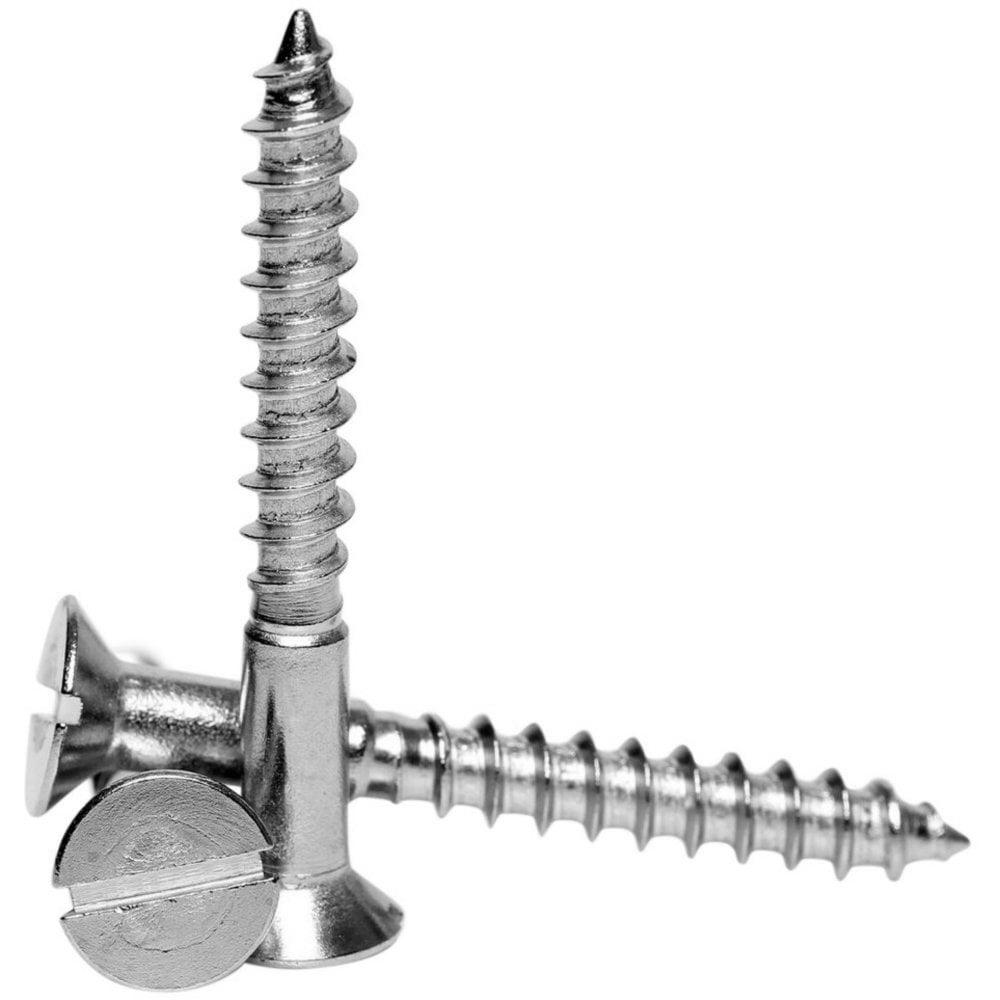slotted: (54, 764, 266, 993)
